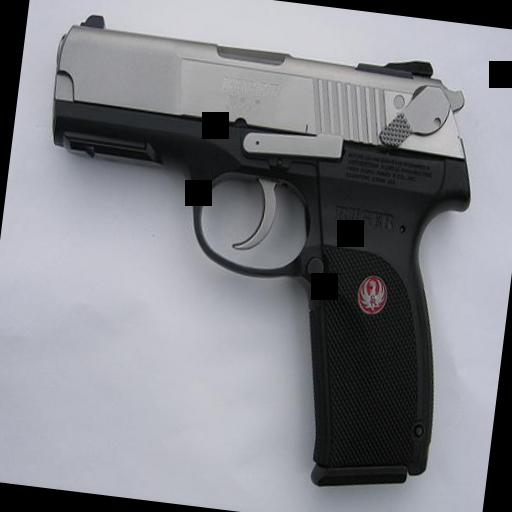Handgun: (6, 6, 482, 498)
